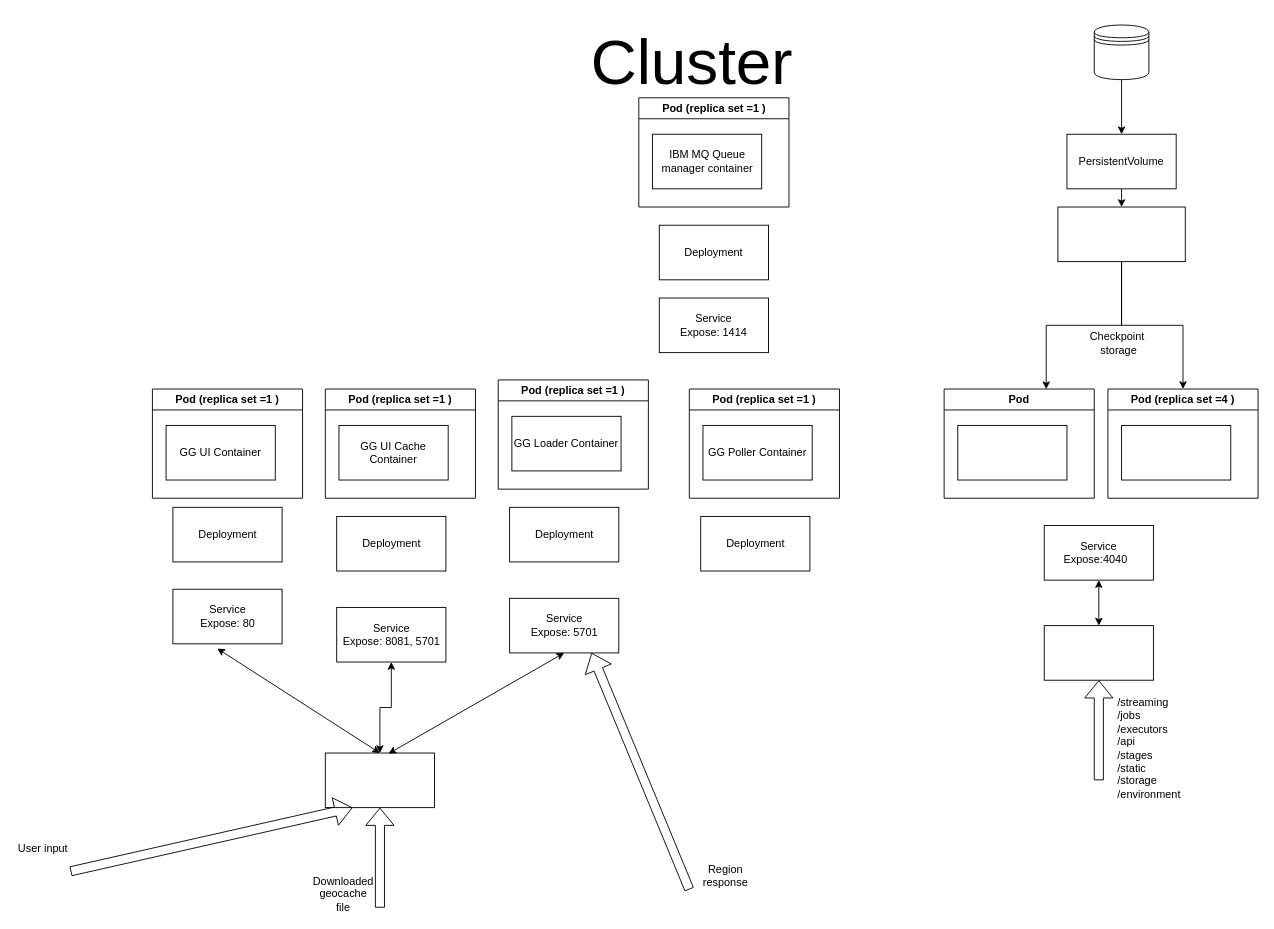
Some shapes in this 1274 by 929 pixel diagram are drawn without their labels. Each missing label, with the centre of its shape:
"Amazon EFS" belongs at point 1121,52.
"Ingress" belongs at point 1098,652.
"Ingress + Ingress controller (ingress-ngnix)" belongs at point 379,780.
"PersistentVolumeClaim" belongs at point 1121,234.
"Spark Driver container" belongs at point 1012,452.
"Spark Worker container" belongs at point 1176,452.
